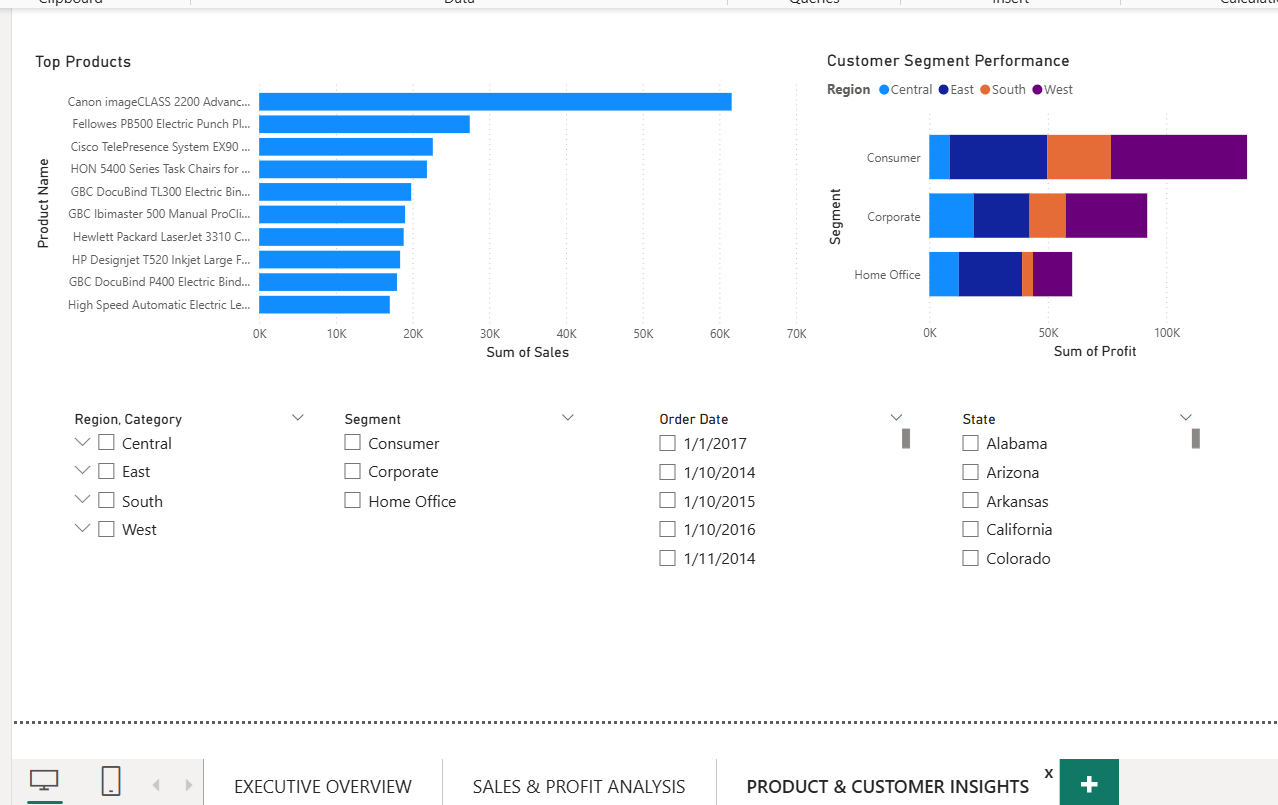

What the dashboard file says about the page in this screenshot:
{"tool":"powerbi","page":{"name":"PRODUCT & CUSTOMER INSIGHTS","canvas":[1280,720],"ordinal":2},"visuals":[{"type":"barChart","title":"Top Products","fields":{"Category":["Sample - Superstore.Product Name"],"Y":["Sum(Sample - Superstore.Sales)"]},"box":[18.9,43.5,788,315.6],"z":0},{"type":"barChart","title":"Customer Segment Performance","fields":{"Category":["Sample - Superstore.Segment"],"Y":["Sum(Sample - Superstore.Profit)"],"Series":["Sample - Superstore.Region"]},"box":[817.7,42.4,461.8,316.5],"z":2},{"type":"slicer","fields":{"Values":["Sample - Superstore.Region","Sample - Superstore.Category"]},"box":[50,401.3,257.4,169.6],"z":4},{"type":"slicer","fields":{"Values":["Sample - Superstore.Segment"]},"box":[322.5,401.3,257.4,169.6],"z":5},{"type":"slicer","fields":{"Values":["Sample - Superstore.Order Date"]},"box":[640.5,401.3,271,169.6],"z":6},{"type":"slicer","fields":{"Values":["Sample - Superstore.State"]},"box":[946.4,401.3,257.4,169.6],"z":8}]}

Visuals, with their boxes on the page's 1280x720 design canvas (x1, y1, x2, y2). These are canvas units, not pixel positions in the 1278x805 screenshot, which may show the page scaled, cropped or inside an application window:
"Top Products" barChart: <box>19,44,807,359</box>
"Customer Segment Performance" barChart: <box>818,42,1280,359</box>
slicer - Sample - Superstore.Region x Sample - Superstore.Category: <box>50,401,307,571</box>
slicer - Sample - Superstore.Segment: <box>322,401,580,571</box>
slicer - Sample - Superstore.Order Date: <box>640,401,912,571</box>
slicer - Sample - Superstore.State: <box>946,401,1204,571</box>
